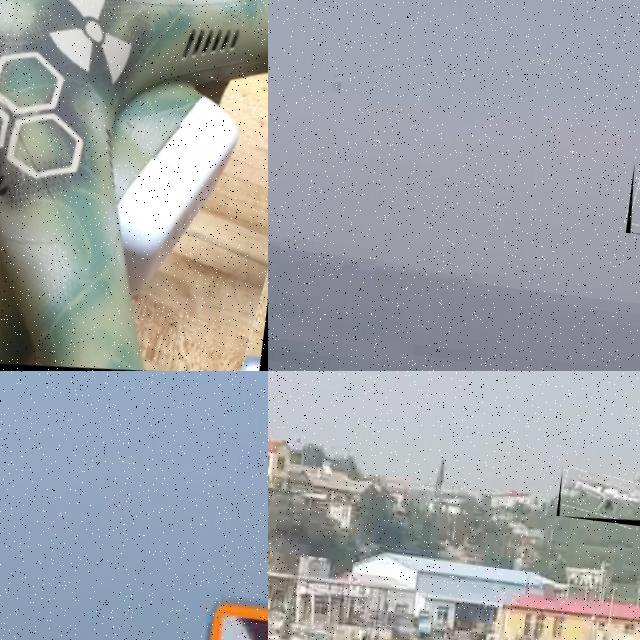0: (556, 469, 640, 526)
drone: (0, 0, 268, 371)
